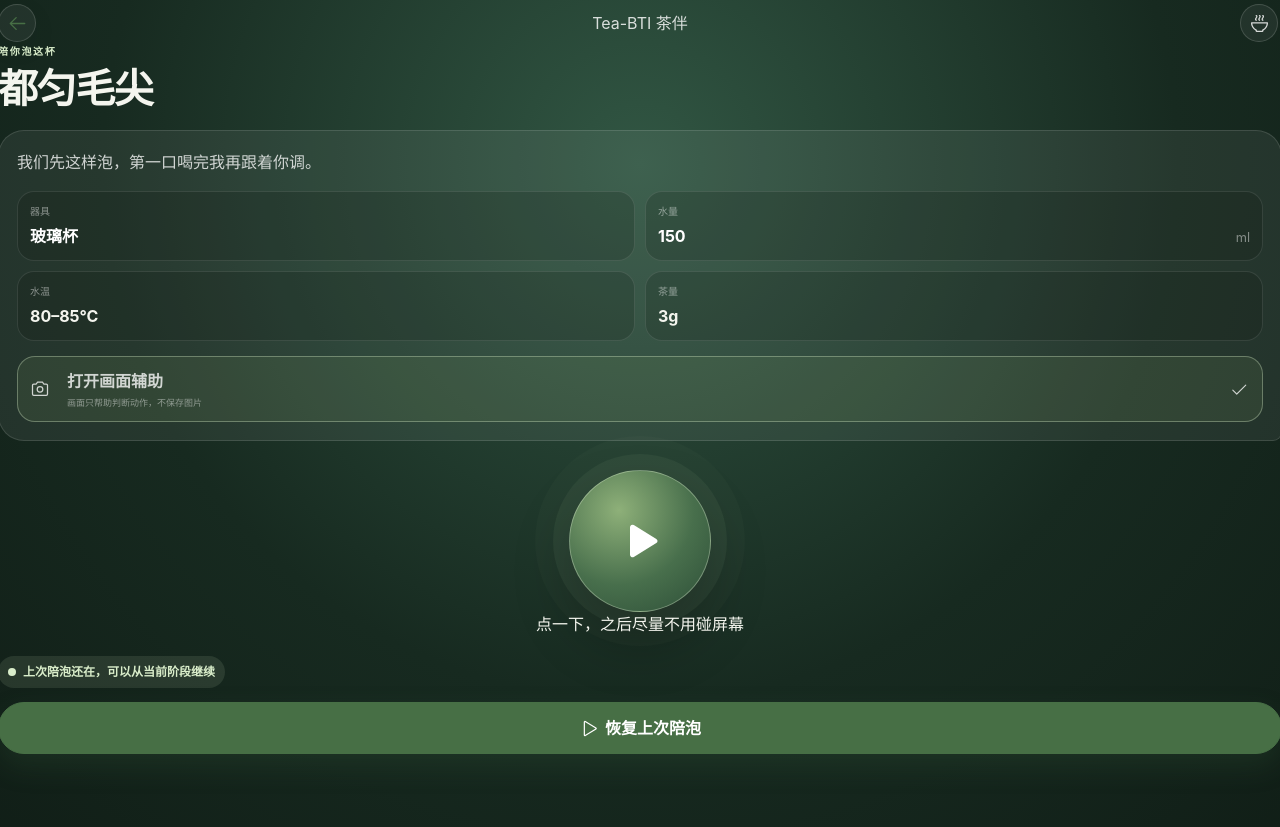
Test case: BrewCompanionExperience › recovers the server stage after refresh before reconnecting capture
Click the button named "恢复上次陪泡": (640, 541) [569,470,711,612]
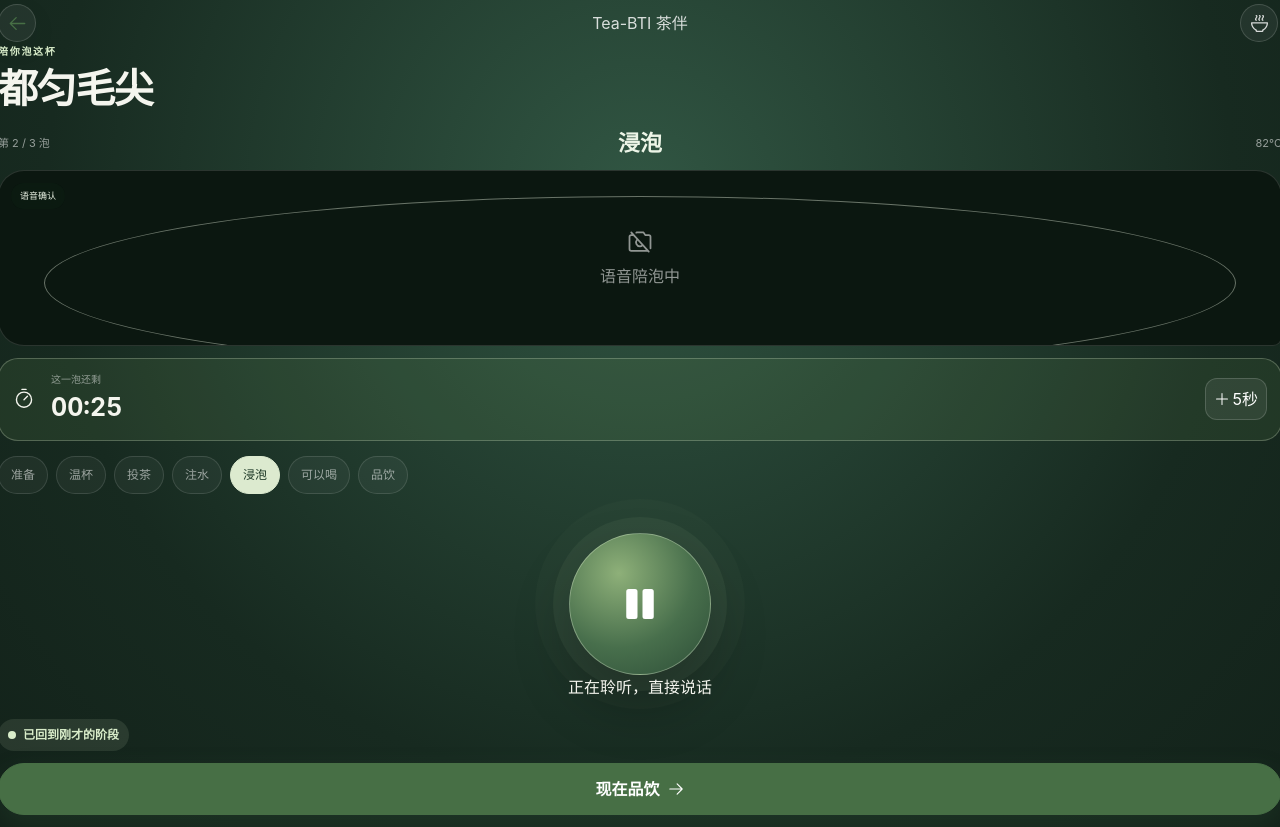
Expected: the text "浸泡" next to "注水" is shown, [243,467,267,482]
